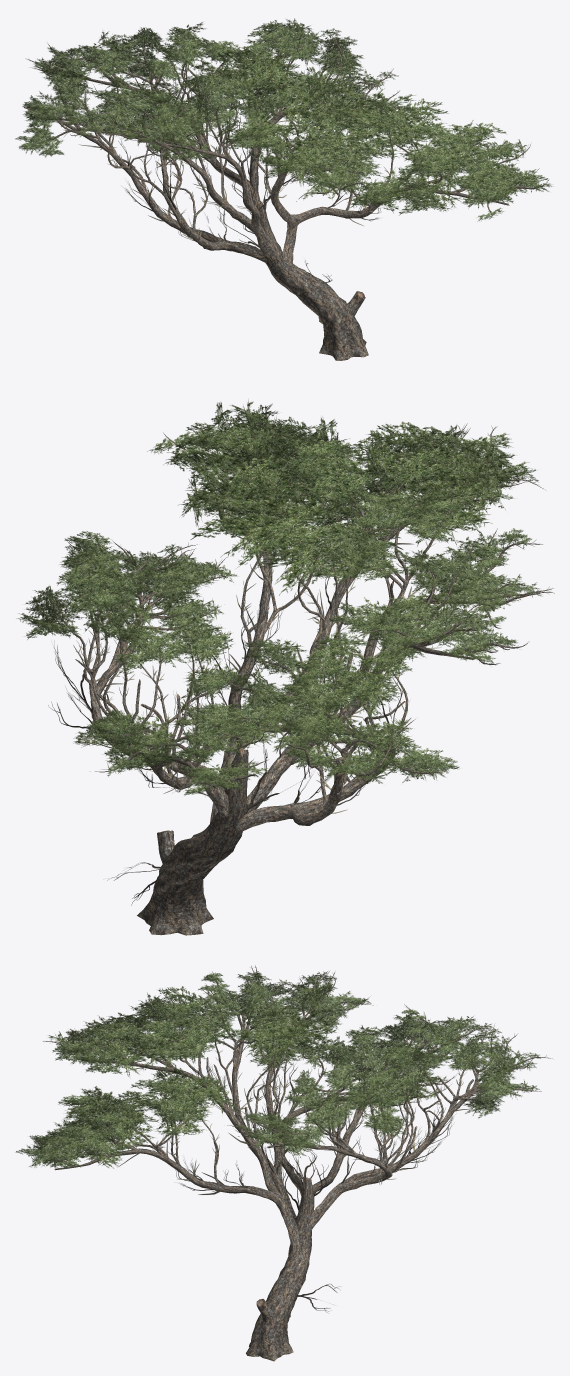
The picture shows the model from 3 angles, top to bottom: view 1: azimuth 30°, elevation 25°; view 2: azimuth 150°, elevation 25°; view 3: azimuth 270°, elevation 25°; orthographic projection. The views are drawn at different scales.
Visible parts, largest first — view 1: Acacia_Med; view 2: Acacia_Med; view 3: Acacia_Med.
Boxes of the visible parts, <box> form: Acacia_Med: <box>15,18,552,360</box>; Acacia_Med: <box>17,400,554,935</box>; Acacia_Med: <box>15,965,552,1361</box>.
Size of the model in its own units: 14.45 by 12.62 by 19.6.
Materials: 6 (6 with a texture image).
